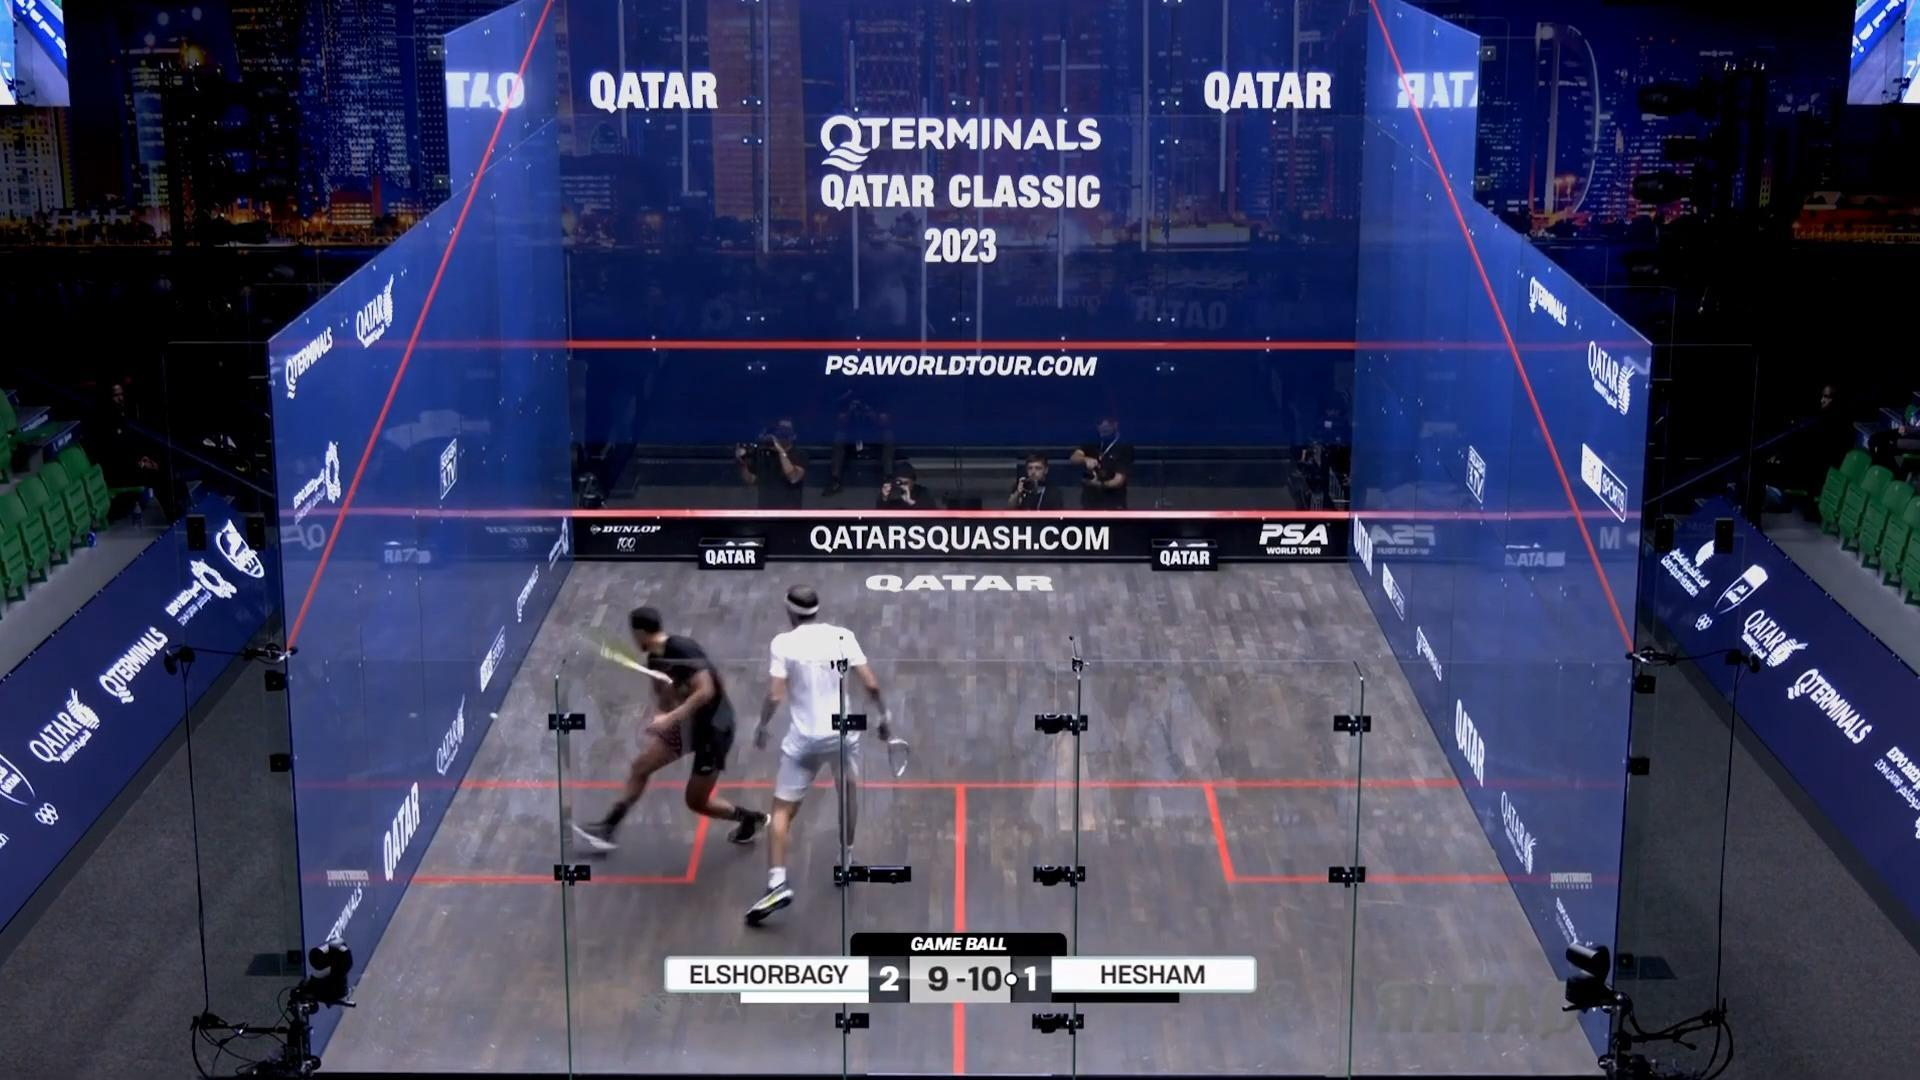Squash-Ball: (481, 703, 508, 731)
